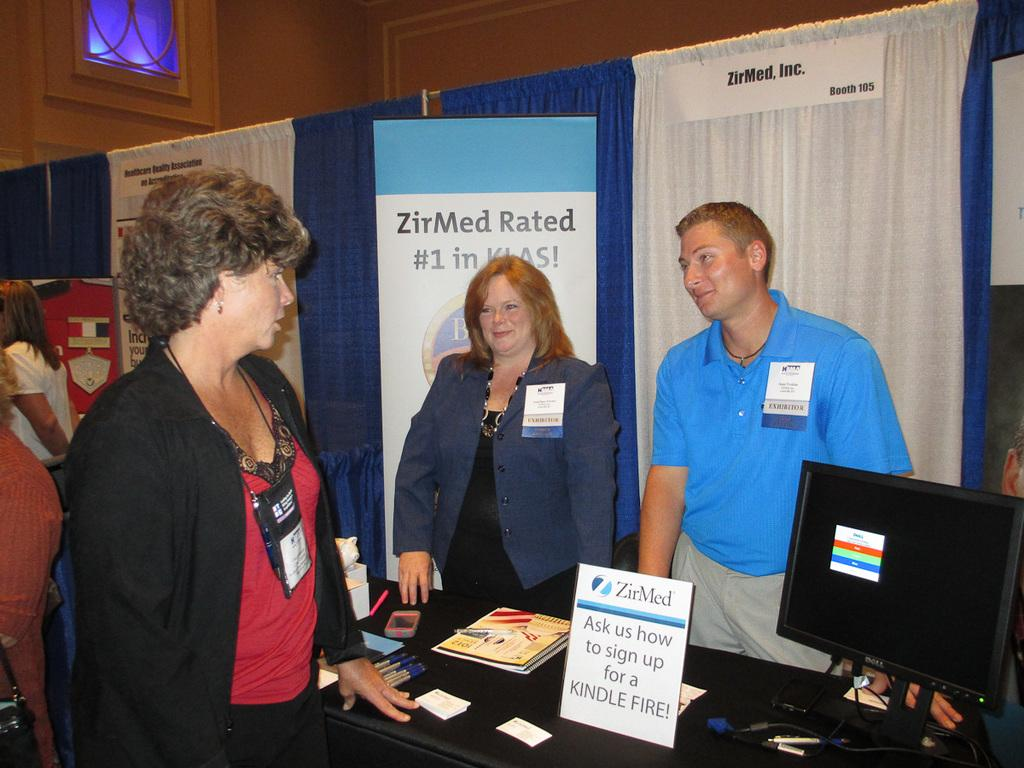Computer-monitor: (773, 466, 1017, 739)
